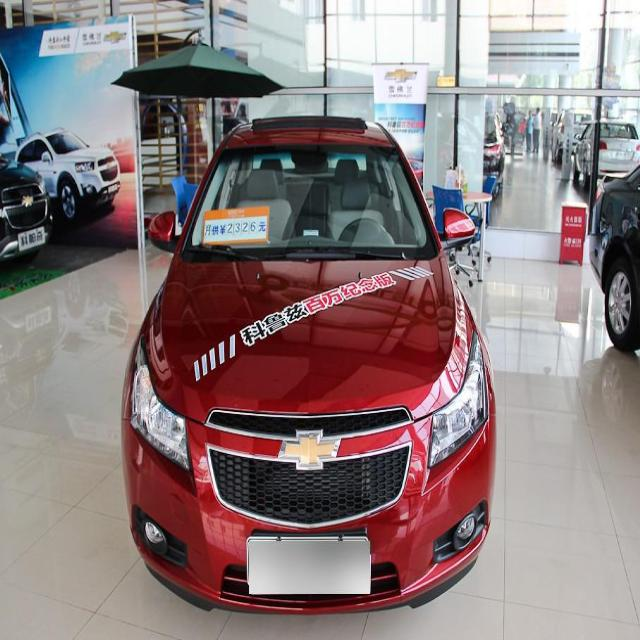front_bumper: (120, 408, 498, 618)
front_glass: (189, 141, 433, 261)
front_left_side_light: (424, 323, 486, 481)
front_left_side_mirror: (438, 203, 476, 254)
front_right_side_light: (127, 331, 194, 481)
front_right_side_mirror: (146, 210, 185, 256)
